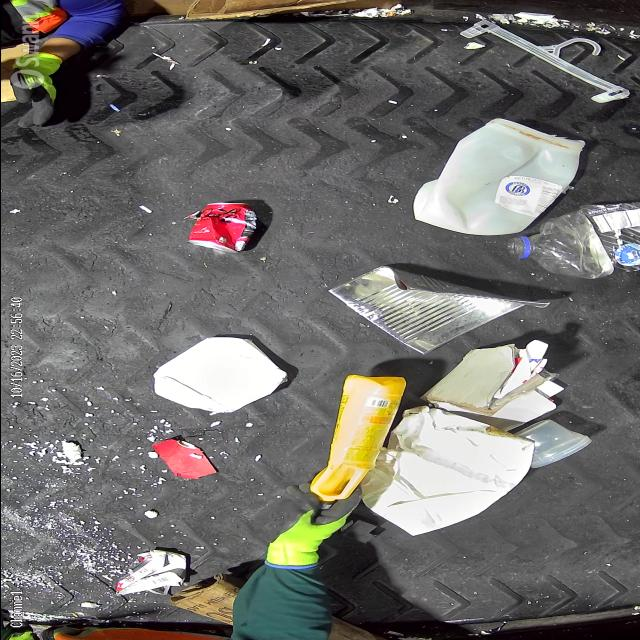can: (185, 202, 256, 253)
milk_jug: (412, 118, 585, 236)
non_white_jug: (308, 374, 406, 500)
plastic_bottle: (506, 202, 640, 278)
